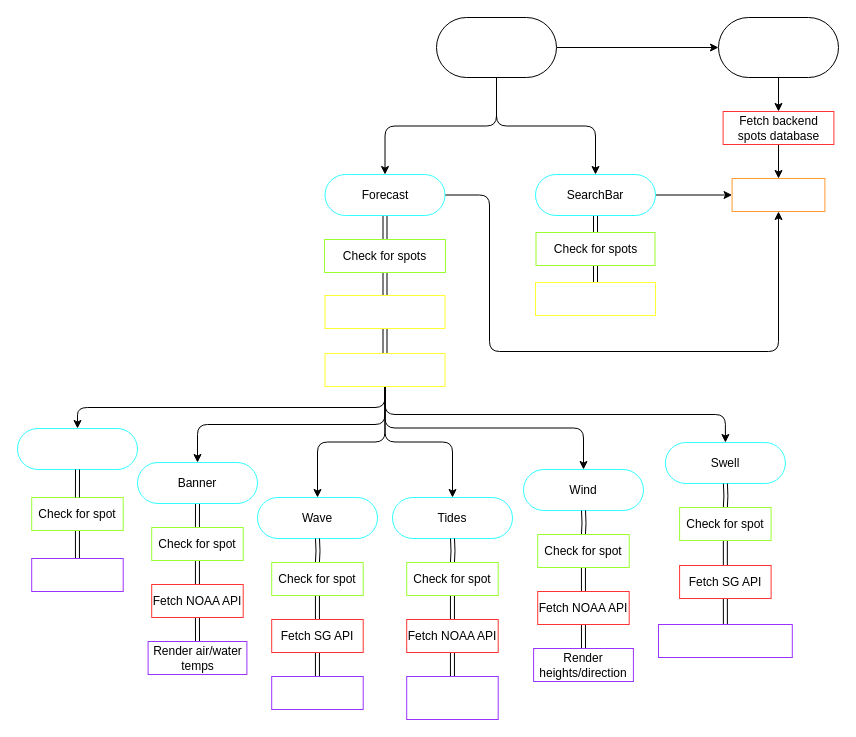
Image size: 856x737. Some labels were removed from this diagram. The shapes that lost their labels are listed below. From the top down, each one's box as (x1, y1, x2, y2) in pixels, then its label:
(436, 16, 556, 78): App
(718, 16, 838, 78): Context (Spots DB)
(731, 178, 825, 212): GET spots
(324, 294, 445, 328): Handle filter spots
(534, 282, 656, 316): Handle search logic
(324, 352, 445, 386): Send filtered spot
(16, 428, 138, 470): Forecast Heading
(31, 558, 123, 592): Render spot name/location
(658, 624, 792, 658): Render heights/direction/period
(271, 676, 363, 710): Render heights
(406, 676, 498, 720): Render current/hourly heights
